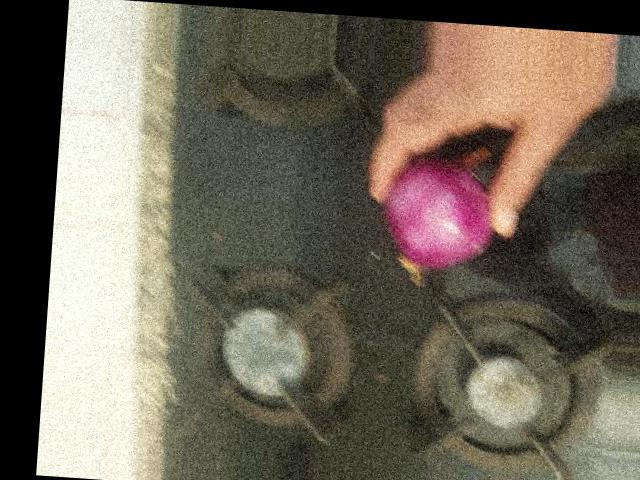onion: (379, 146, 505, 278)
